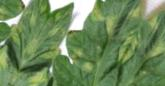Tomato mold leaf: (33, 0, 160, 86), (10, 0, 88, 86)
